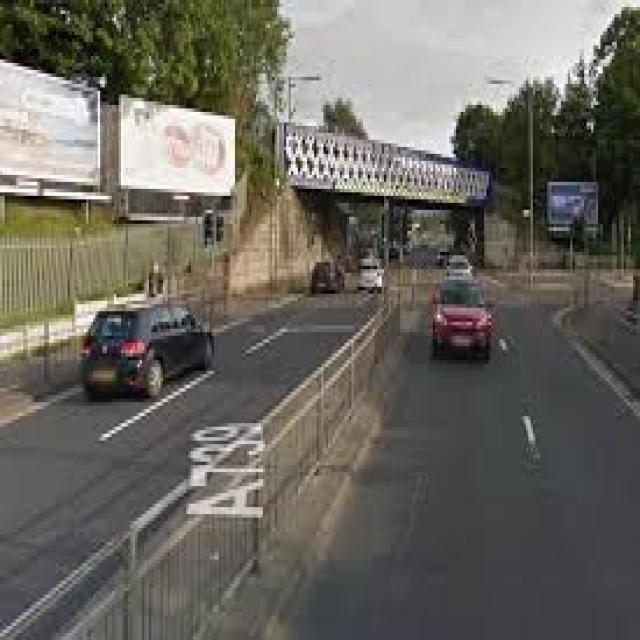Billboard_LHS: (112, 77, 236, 212), (0, 49, 105, 199)
Billboard_RHS: (544, 175, 600, 245)
Roadcorner: (552, 313, 638, 421), (5, 372, 86, 437)
Roadlane: (88, 296, 318, 469), (489, 327, 590, 568)
